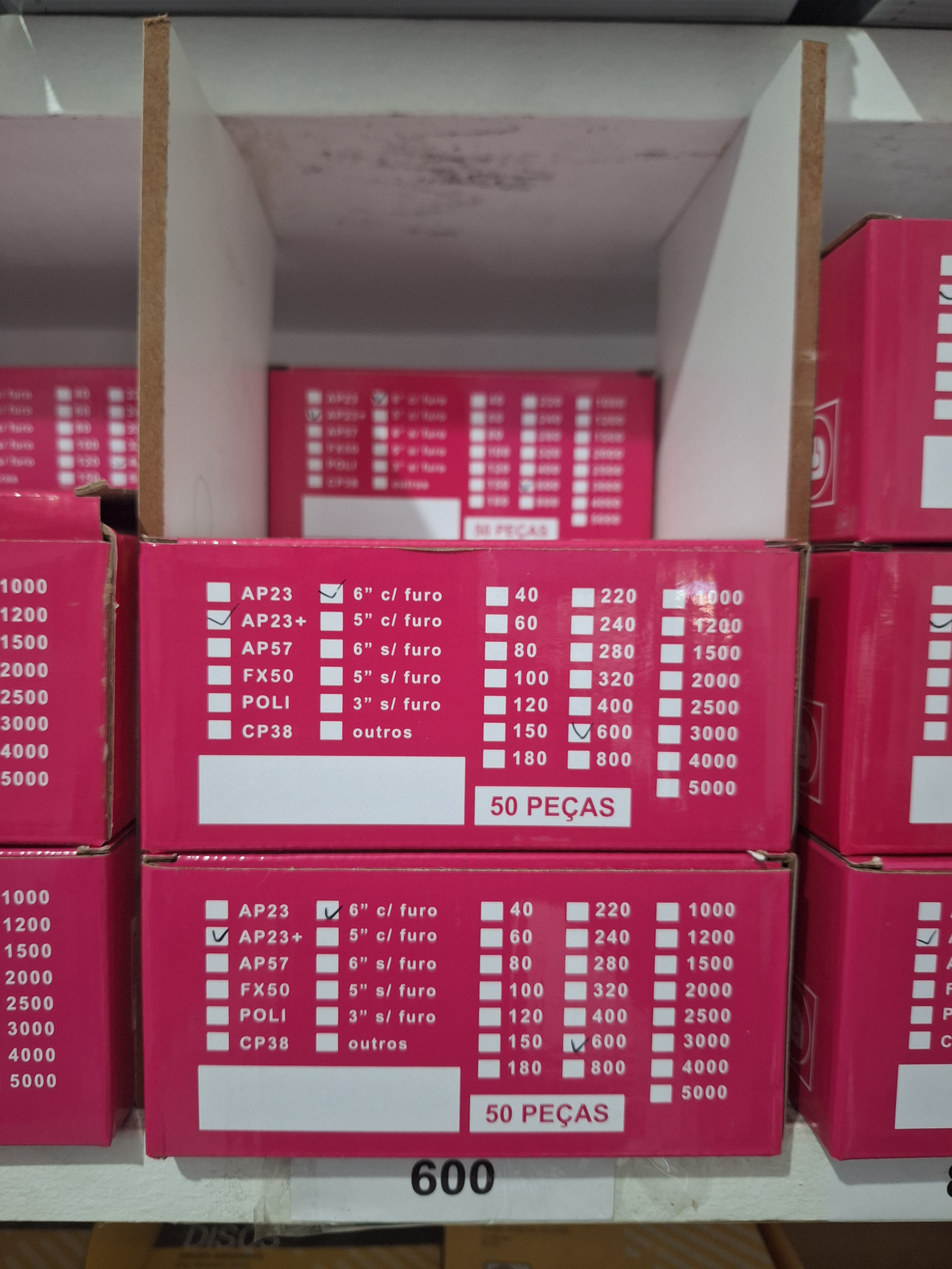discos: (464, 548, 816, 856), (461, 856, 813, 1164), (460, 364, 669, 546)
objects: (100, 245, 838, 1222)
